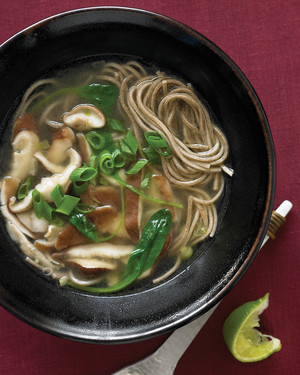Soba: (105, 57, 235, 281)
